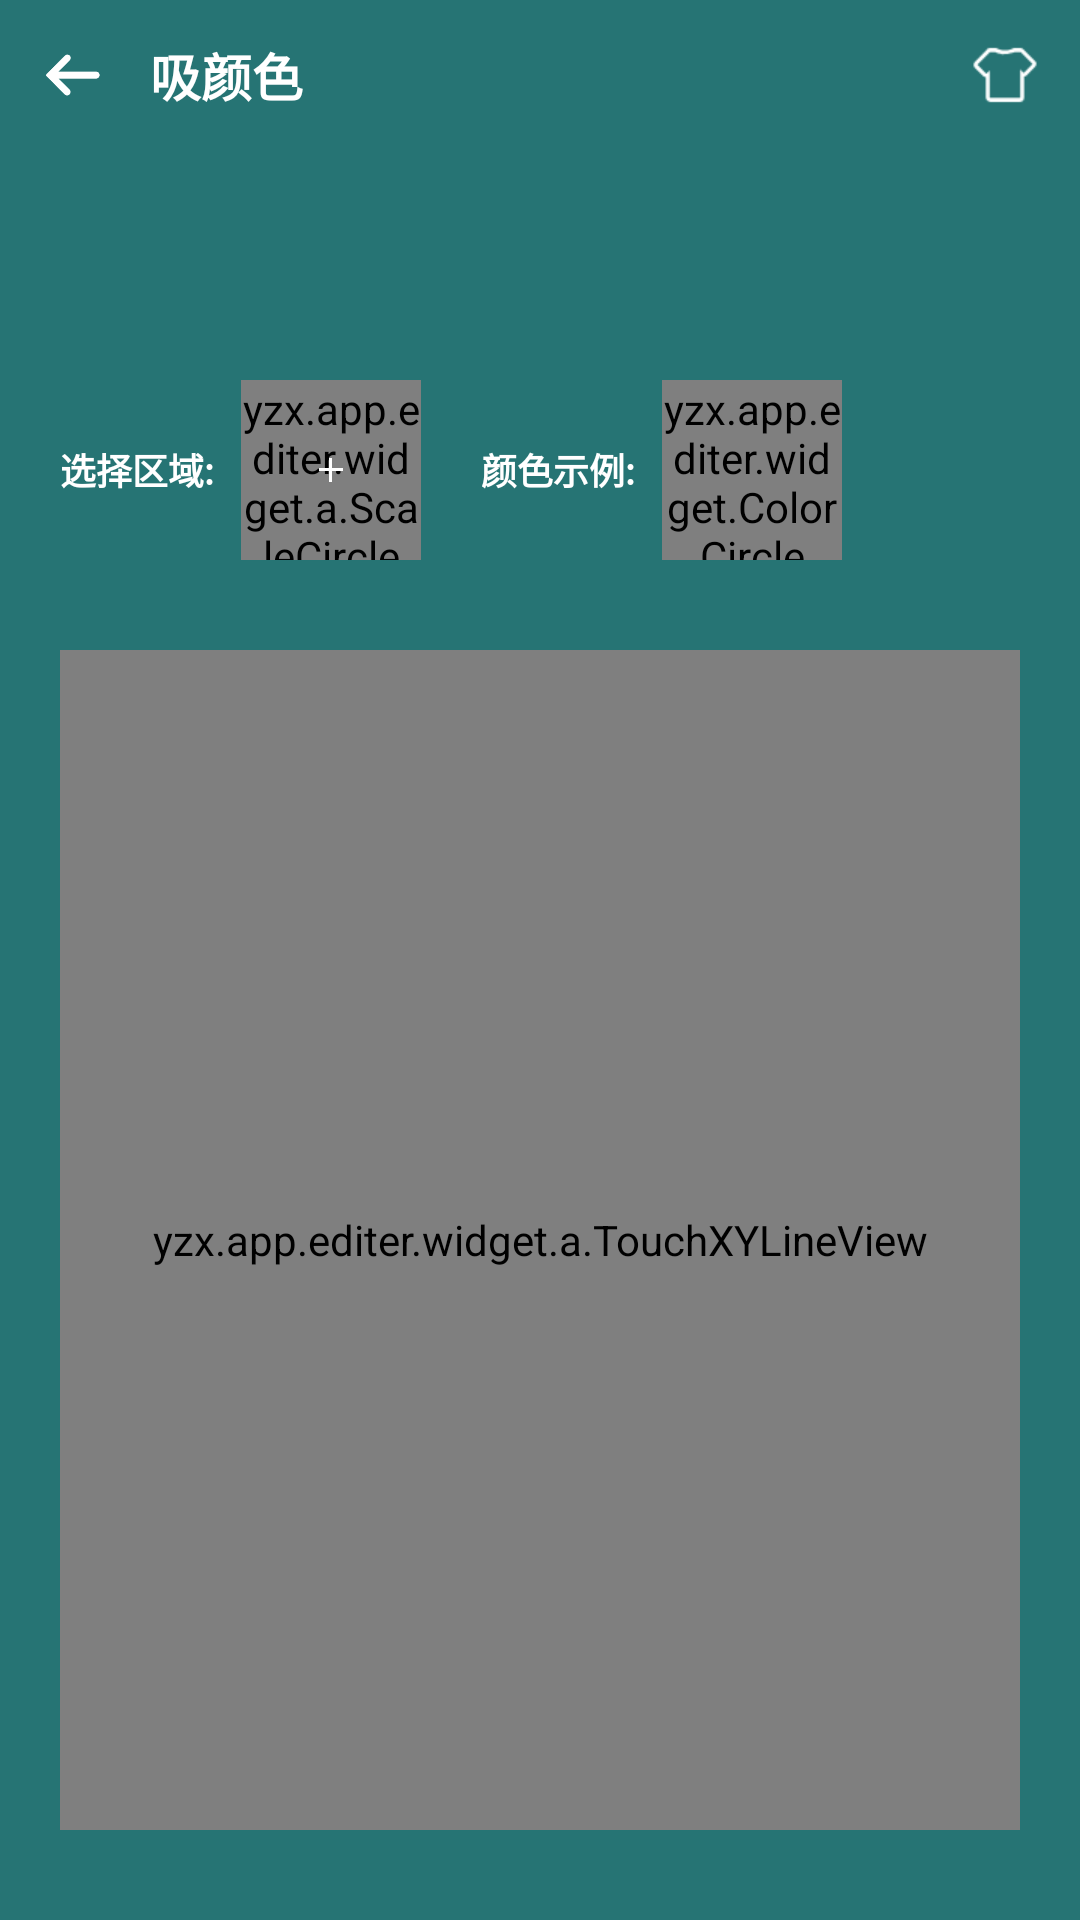

Icons on this 1080*1920 Android screen, each with its box as (x1, y1, x2, y2):
arrow back: (46, 54, 100, 96)
clothes: (973, 47, 1037, 103)
